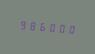eight: (27, 18, 36, 33)
nine: (17, 17, 26, 32)
six: (38, 19, 47, 33)
zero: (58, 20, 67, 35), (68, 21, 77, 36), (48, 20, 57, 34)
